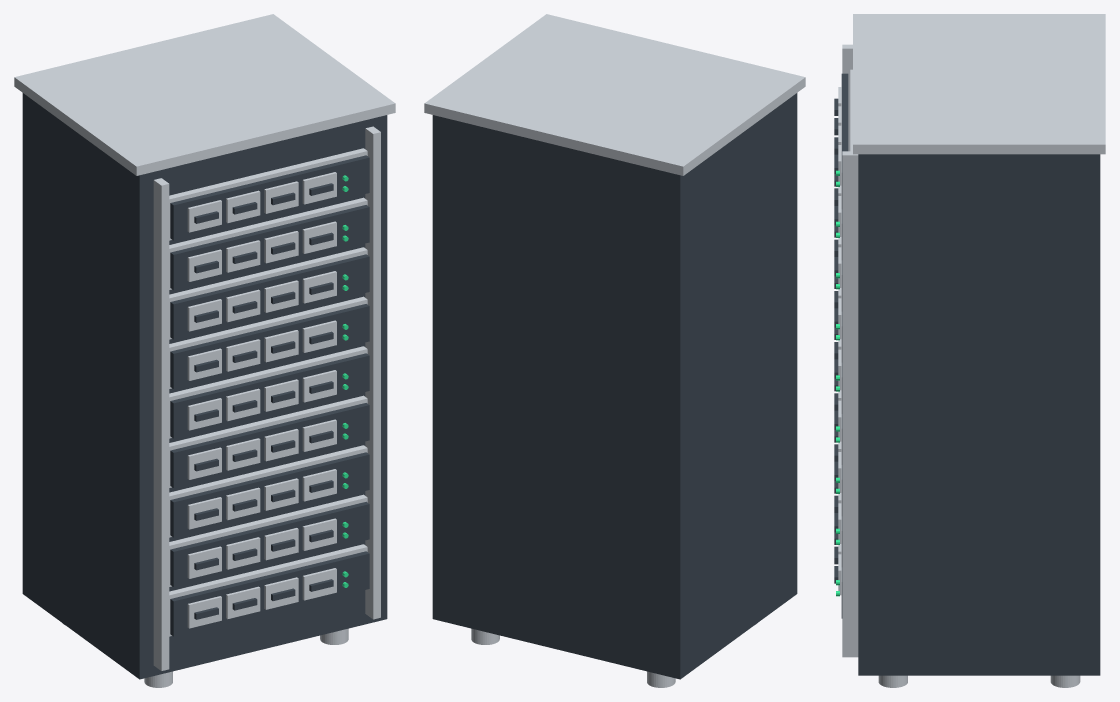
File: model-data.glb
3 views of the same model, side by side, from view 1: azimuth 30°, elevation 25°; view 2: azimuth 150°, elevation 25°; view 3: azimuth 270°, elevation 25° (orthographic). The views are drawn at different scales.
Visible parts, largest first — view 1: Rack cabinet, Server face (×9), Rack top, Drive caddy (×36), Rack server (×9), Rack rail (×2); view 2: Rack cabinet, Rack top; view 3: Rack cabinet, Rack top, Rack rail (×2), Server face.
Part boxes in pixels (x1,y1,x2,y2): Rack cabinet: [22, 93, 387, 679]; Server face (×9): [170, 155, 369, 636]; Rack top: [14, 14, 395, 175]; Drive caddy (×36): [187, 172, 336, 628]; Rack server (×9): [169, 148, 367, 636]; Rack rail (×2): [153, 126, 380, 670]; Rack cabinet: [432, 93, 797, 679]; Rack top: [424, 14, 805, 175]; Rack cabinet: [858, 154, 1100, 675]; Rack top: [853, 14, 1105, 154]; Rack rail (×2): [842, 44, 858, 657]; Server face: [841, 73, 848, 208].
Bounding box in the file's own units: 1.15 × 2.29 × 1.01.
